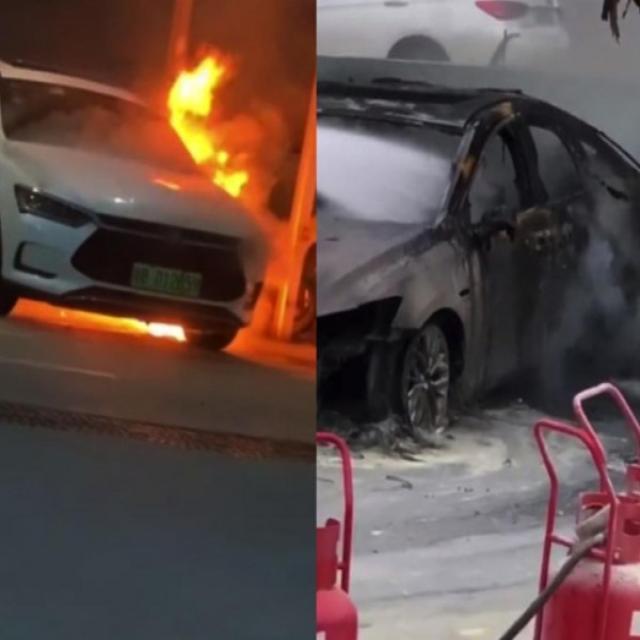Fire: (167, 48, 250, 202), (146, 320, 187, 342)
